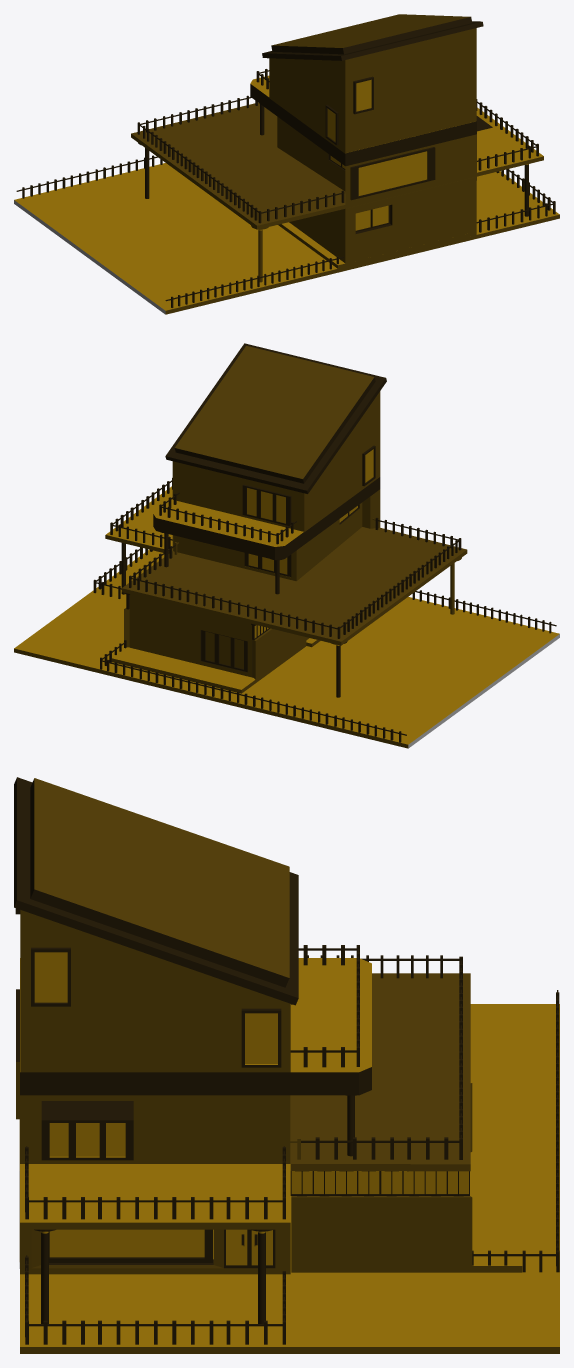
The model's file is Main_House_Blocks.fbx.
The picture shows the model from 3 angles, top to bottom: view 1: azimuth 30°, elevation 25°; view 2: azimuth 150°, elevation 25°; view 3: azimuth 270°, elevation 25°; orthographic projection. The views are drawn at different scales.
Parts seen in each view (by area): view 1: polySurface41, polySurface13, polySurface27, polySurface28, polySurface35, polySurface12, polySurface38, polySurface62, polySurface47, polySurface50, polySurface40, polySurface10 (+14 smaller); view 2: polySurface41, polySurface12, polySurface28, polySurface27, polySurface13, polySurface22, polySurface17, polySurface46, polySurface23, polySurface10, polySurface30, polySurface62 (+12 smaller); view 3: polySurface41, polySurface12, polySurface13, polySurface22, polySurface46, polySurface38, polySurface40, polySurface28, polySurface23, polySurface61, polySurface36, polySurface44 (+12 smaller).
Part boxes in pixels (box(x1,y1,x2,y2)): polySurface41: box(131, 75, 476, 229); polySurface13: box(269, 28, 476, 153); polySurface27: box(89, 223, 296, 314); polySurface28: box(14, 168, 220, 258); polySurface35: box(351, 182, 469, 261); polySurface12: box(262, 14, 483, 60); polySurface38: box(428, 171, 559, 250); polySurface62: box(222, 218, 428, 282); polySurface47: box(350, 147, 435, 200); polySurface50: box(289, 176, 476, 263); polySurface40: box(476, 107, 543, 176); polySurface10: box(277, 117, 345, 191); polySurface41: box(121, 477, 467, 645); polySurface12: box(165, 343, 386, 493); polySurface28: box(277, 657, 483, 748); polySurface27: box(353, 602, 559, 692); polySurface13: box(172, 391, 380, 532); polySurface22: box(14, 593, 155, 684); polySurface17: box(129, 594, 252, 677); polySurface46: box(112, 608, 306, 693); polySurface23: box(145, 646, 352, 716); polySurface10: box(296, 502, 362, 580); polySurface30: box(102, 660, 406, 742); polySurface62: box(312, 596, 426, 656); polySurface41: box(20, 958, 470, 1171); polySurface12: box(14, 777, 298, 1005); polySurface13: box(20, 910, 290, 1072); polySurface22: box(289, 1232, 559, 1353); polySurface46: box(291, 1083, 522, 1272); polySurface38: box(20, 1274, 290, 1353); polySurface40: box(20, 1164, 290, 1229); polySurface28: box(470, 1004, 559, 1118); polySurface23: box(290, 1118, 559, 1232); polySurface61: box(41, 1101, 133, 1160); polySurface36: box(48, 1229, 212, 1262); polySurface44: box(290, 1171, 469, 1196).
Bounding box in the file's own units: 2014 × 1071 × 1356.
